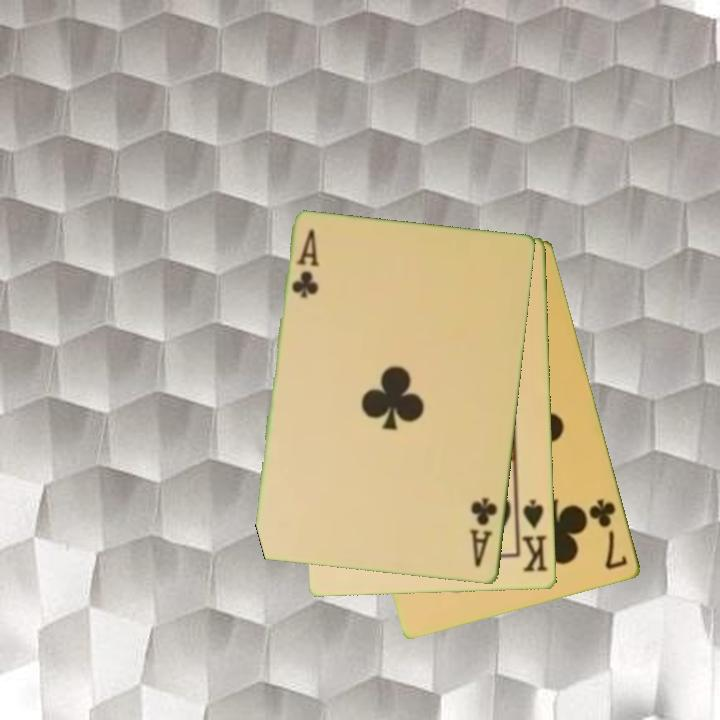7c: (585, 495, 631, 573)
Ac: (288, 225, 323, 301), (467, 494, 501, 571)
Ks: (517, 496, 551, 576)
